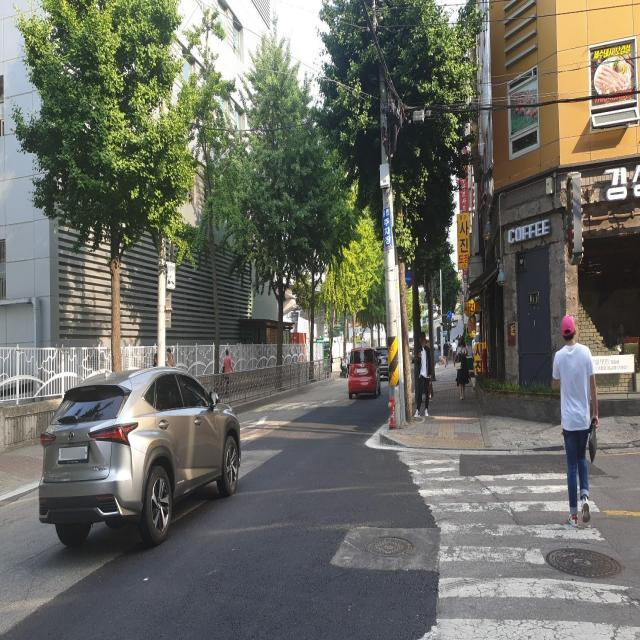횡단보도: (403, 454, 640, 640)
